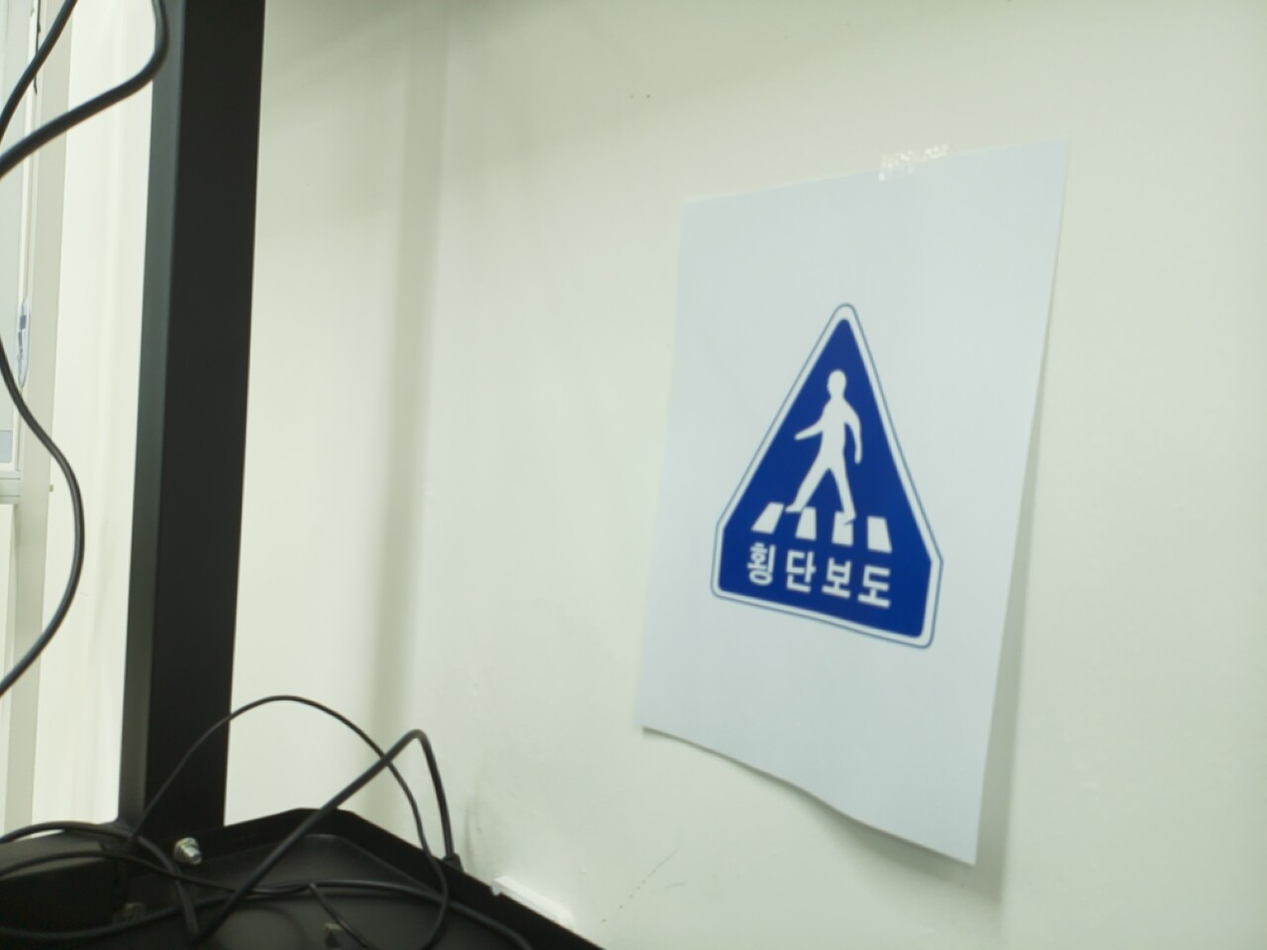crosswalk: (710, 309, 939, 648)
